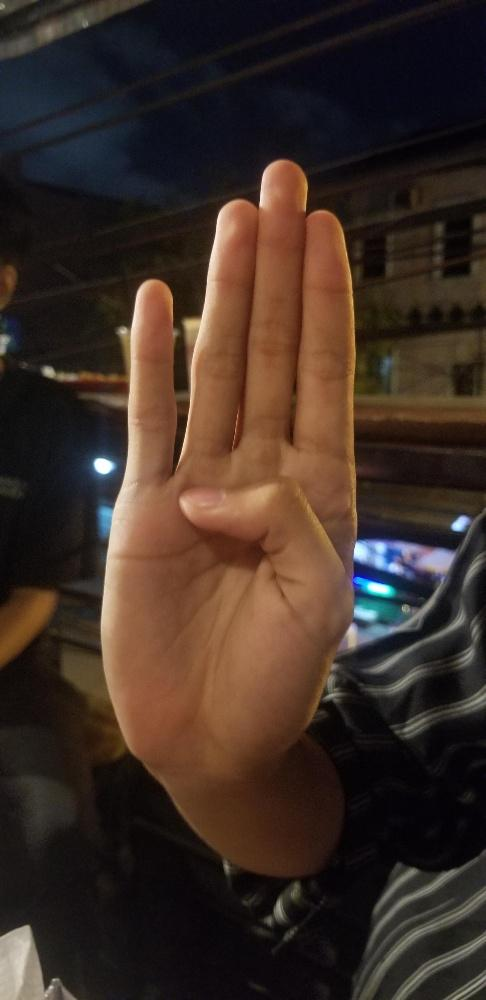b: (95, 158, 363, 772)
